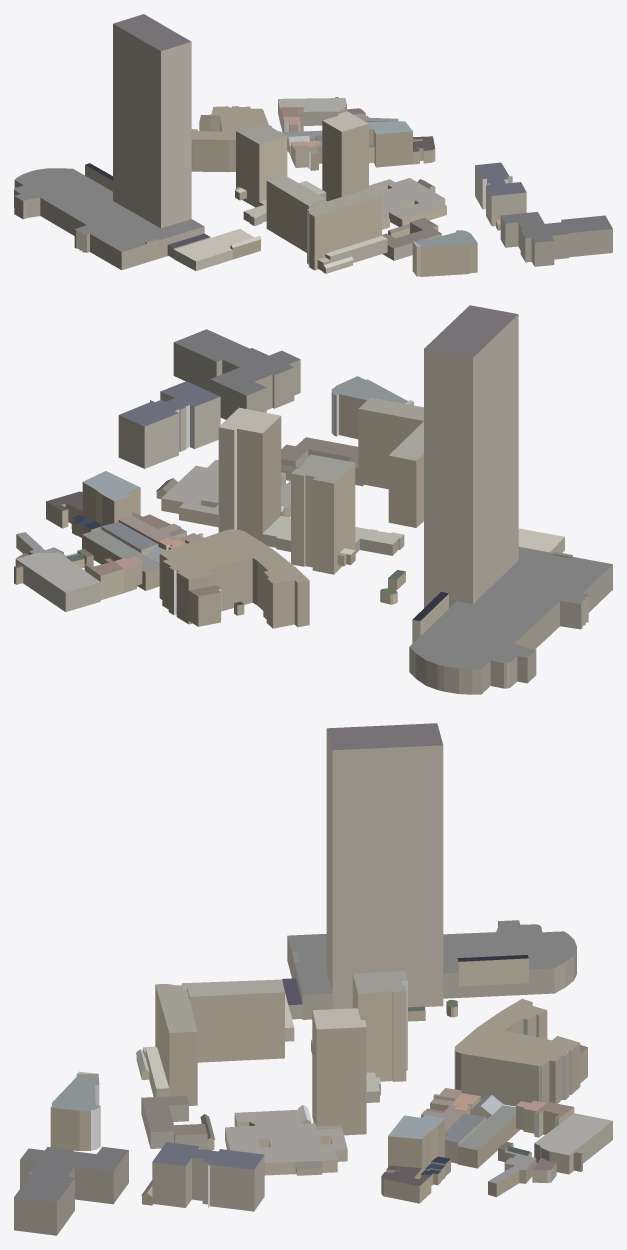
3 renders of one model, top to bottom at view 1: azimuth 30°, elevation 25°; view 2: azimuth 150°, elevation 25°; view 3: azimuth 270°, elevation 25°, orthographic. The views are drawn at different scales.
Parts seen in each view (by area): view 1: tuile; view 2: tuile; view 3: tuile.
Part boxes in pixels (x1,y1,x2,y2): tuile: (14, 14, 612, 276); tuile: (14, 305, 612, 694); tuile: (14, 723, 612, 1235).
Size of the model in its own units: 294 by 133 by 262.
